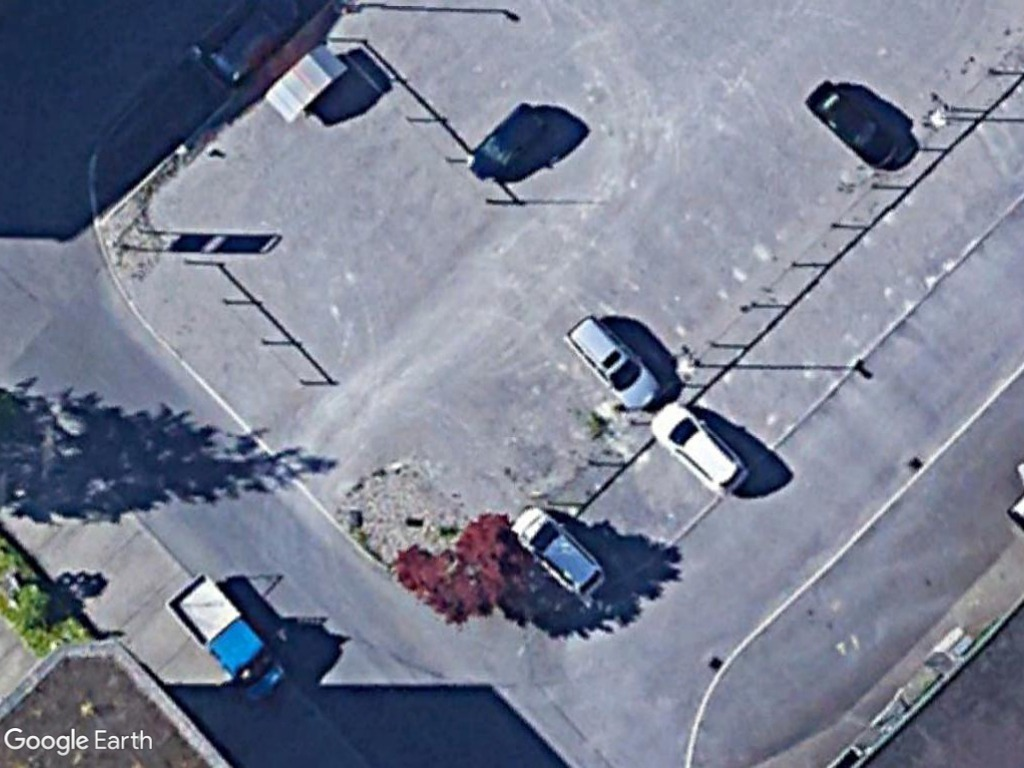car: (643, 399, 752, 498), (510, 499, 609, 602), (563, 316, 664, 413)
others: (157, 570, 288, 705)
